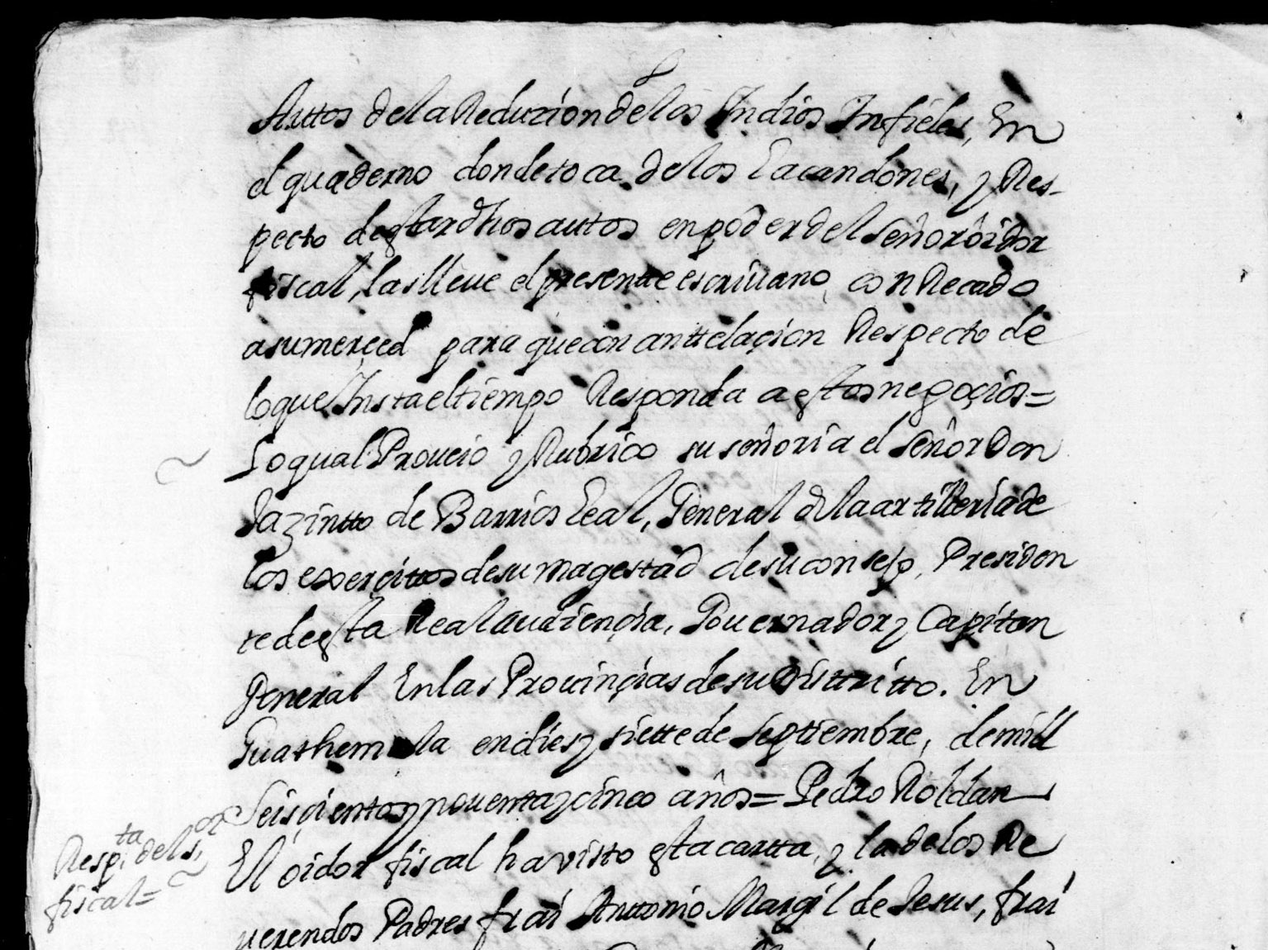lacandon: (748, 137, 951, 188)
